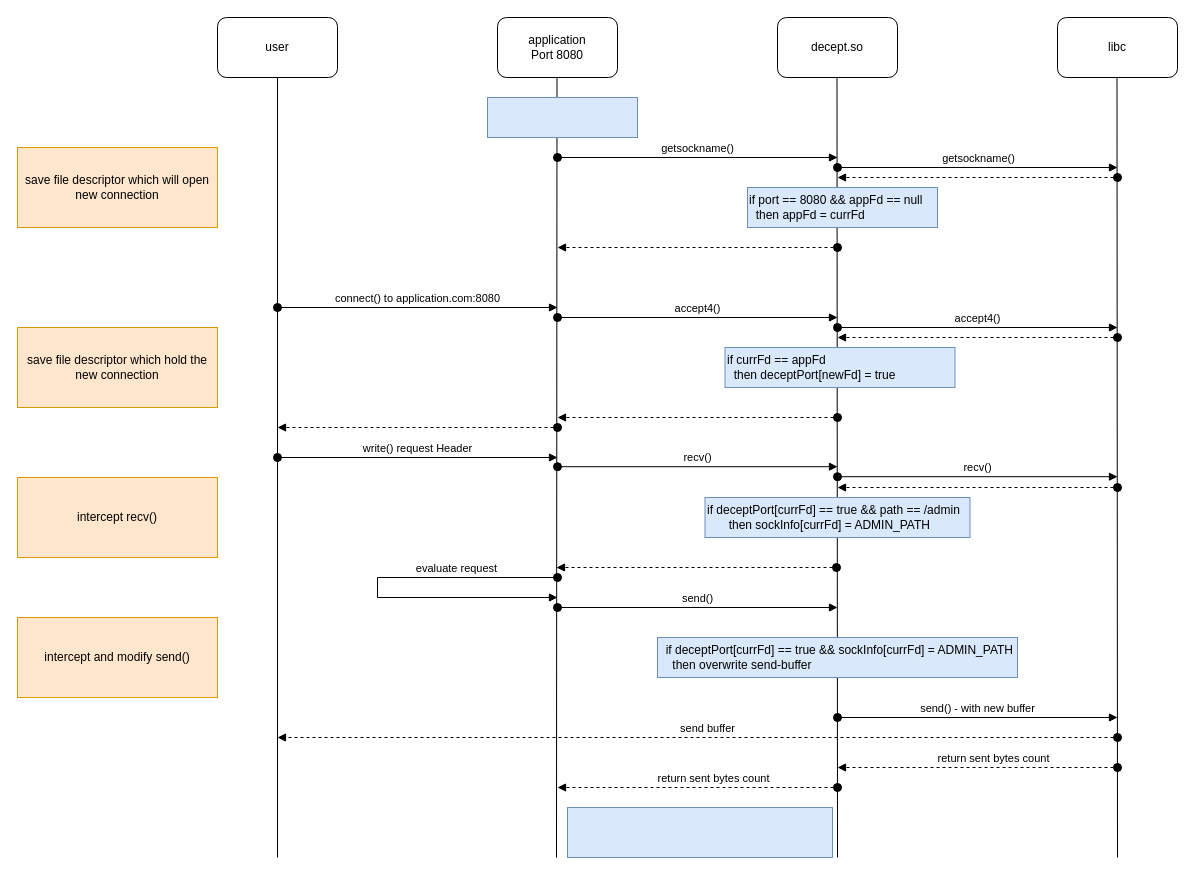
This 1195x876 diagram has some shape labels left out. Here are the shapes that lost their labels. From the top down, the centre of each, then its label:
point (562, 117): on application startup
point (699, 832): continue with sending request body and close/free resources afterwards
